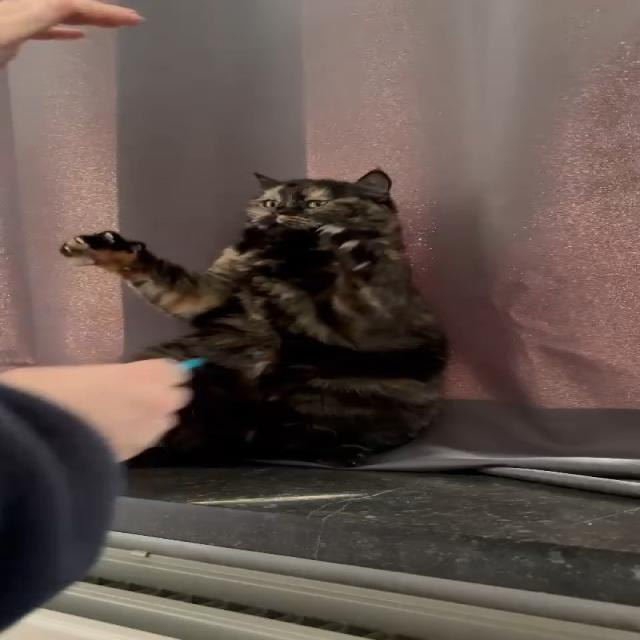authorized: (59, 167, 452, 468)
